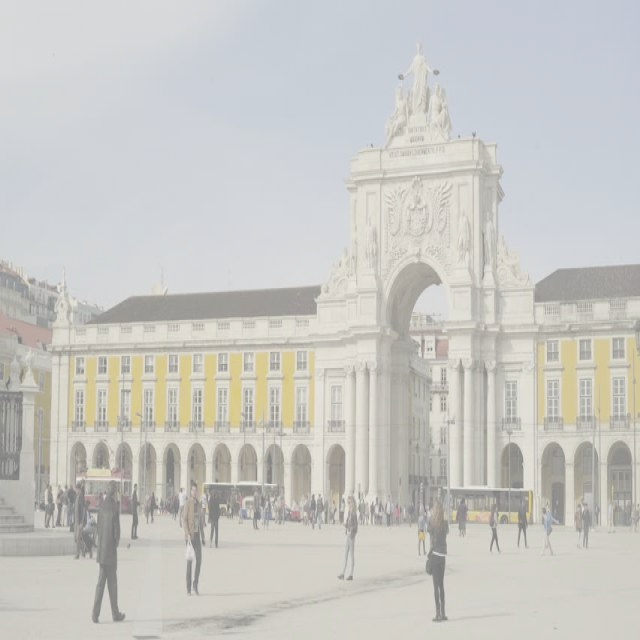pessoa: (384, 38, 453, 160), (89, 478, 128, 628), (454, 204, 498, 282), (180, 480, 207, 598), (426, 497, 450, 624), (336, 493, 360, 584), (359, 494, 417, 530), (320, 246, 353, 302), (301, 490, 346, 530), (70, 482, 88, 562), (496, 231, 522, 281), (258, 486, 287, 530), (361, 210, 378, 274), (538, 504, 556, 559), (80, 498, 98, 550), (486, 501, 502, 555), (207, 488, 220, 550), (156, 488, 179, 523), (224, 487, 244, 525), (516, 497, 530, 551), (129, 481, 141, 540), (624, 496, 640, 536), (415, 506, 427, 558), (580, 500, 592, 548), (59, 481, 71, 528), (44, 484, 56, 530), (573, 502, 583, 550), (66, 482, 76, 528), (605, 498, 616, 536), (456, 498, 466, 538), (55, 482, 64, 526), (142, 488, 152, 526), (44, 481, 52, 527), (148, 488, 158, 524), (178, 485, 186, 528), (252, 489, 260, 531), (200, 486, 208, 528), (461, 496, 468, 536), (592, 500, 602, 527), (425, 504, 434, 526), (98, 488, 108, 506), (543, 497, 551, 516), (79, 478, 86, 496), (207, 488, 213, 504)
